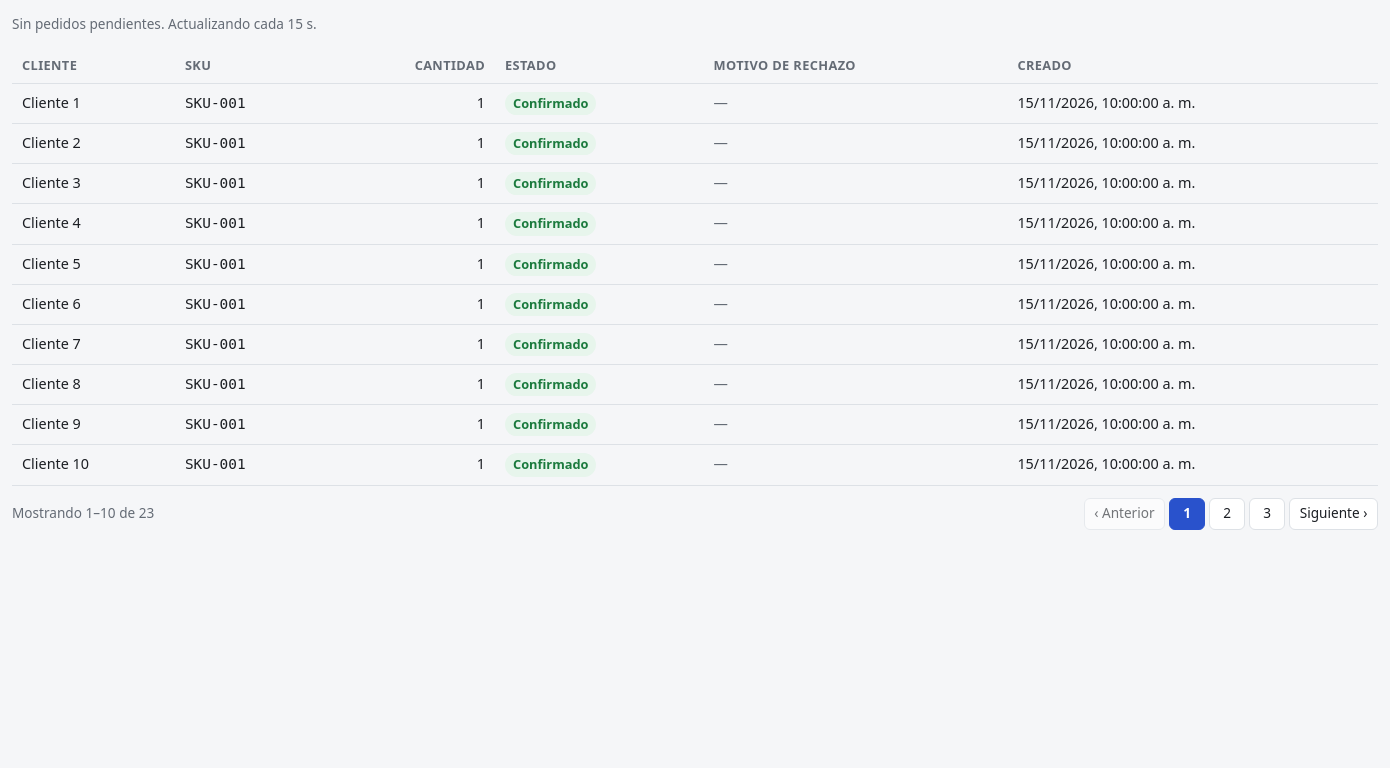
Test: OrdersTable › pagina de 10 en 10 y navega con Siguiente / número / Anterior
expect the text "Mostrando 1–10 de 23" is shown: met, box [12,503,154,524]
expect the button "‹ Anterior" is disabled: met, box [1084,498,1165,530]
Click the button "Siguiente ›": [1334, 514] box [1289,498,1378,530]
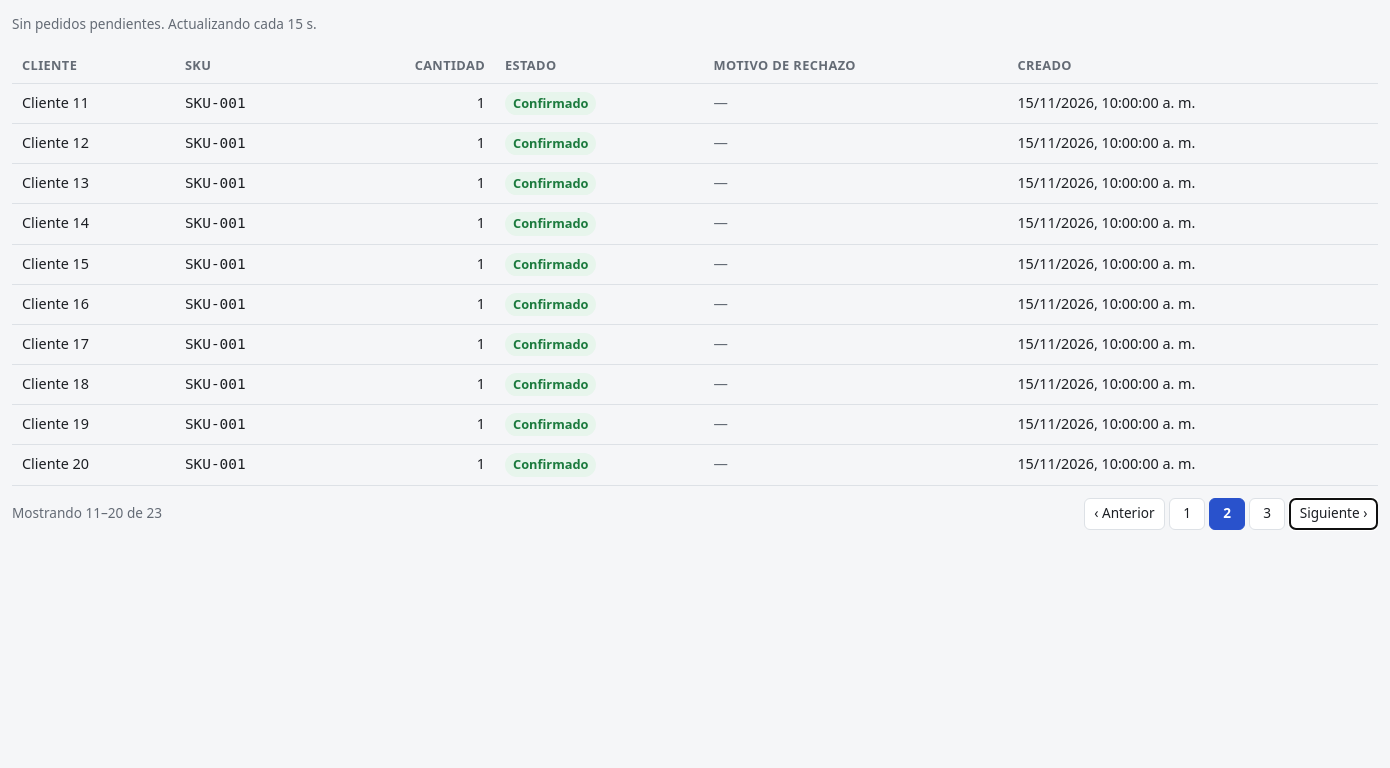
expect the text "Mostrando 11–20 de 23" is shown: met, box [12,503,162,524]
expect the cell "Cliente 11" is shown: met, box [12,83,175,124]
Click the button named "Página 3": [1267, 514] box [1249,498,1285,530]
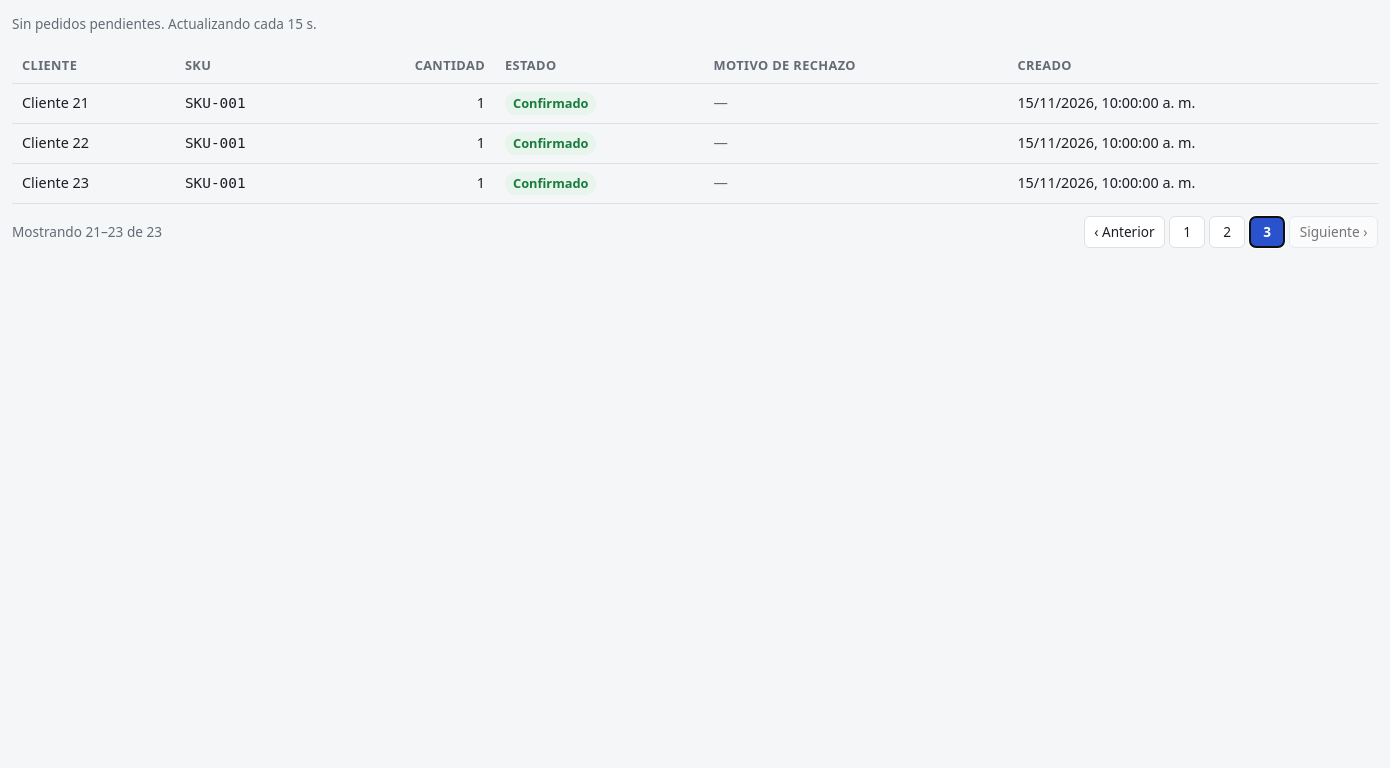
expect the button "Siguiente ›" is disabled: met, box [1289,216,1378,248]
Click the button "‹ Anterior": [1124, 232] box [1084,216,1165,248]
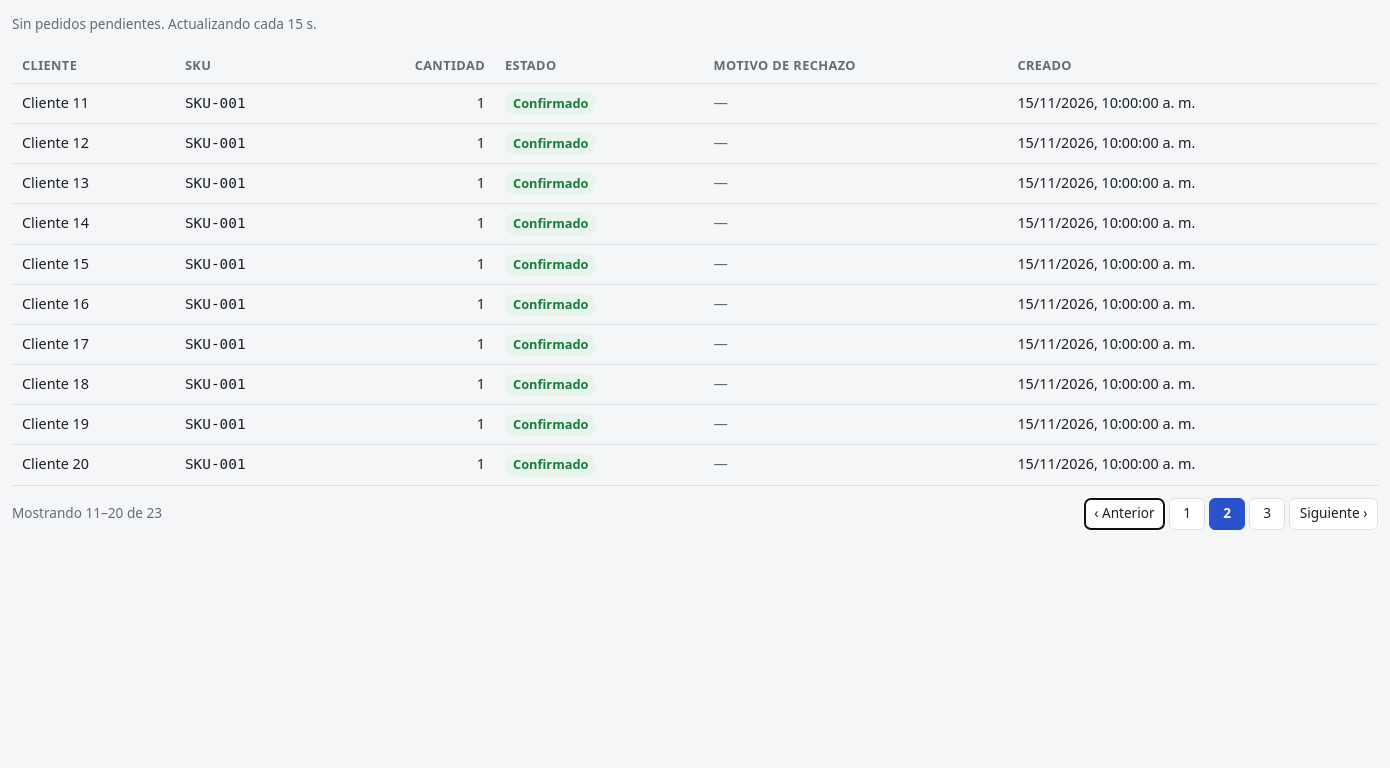
expect the text "Mostrando 11–20 de 23" is shown: met, box [12,503,162,524]
